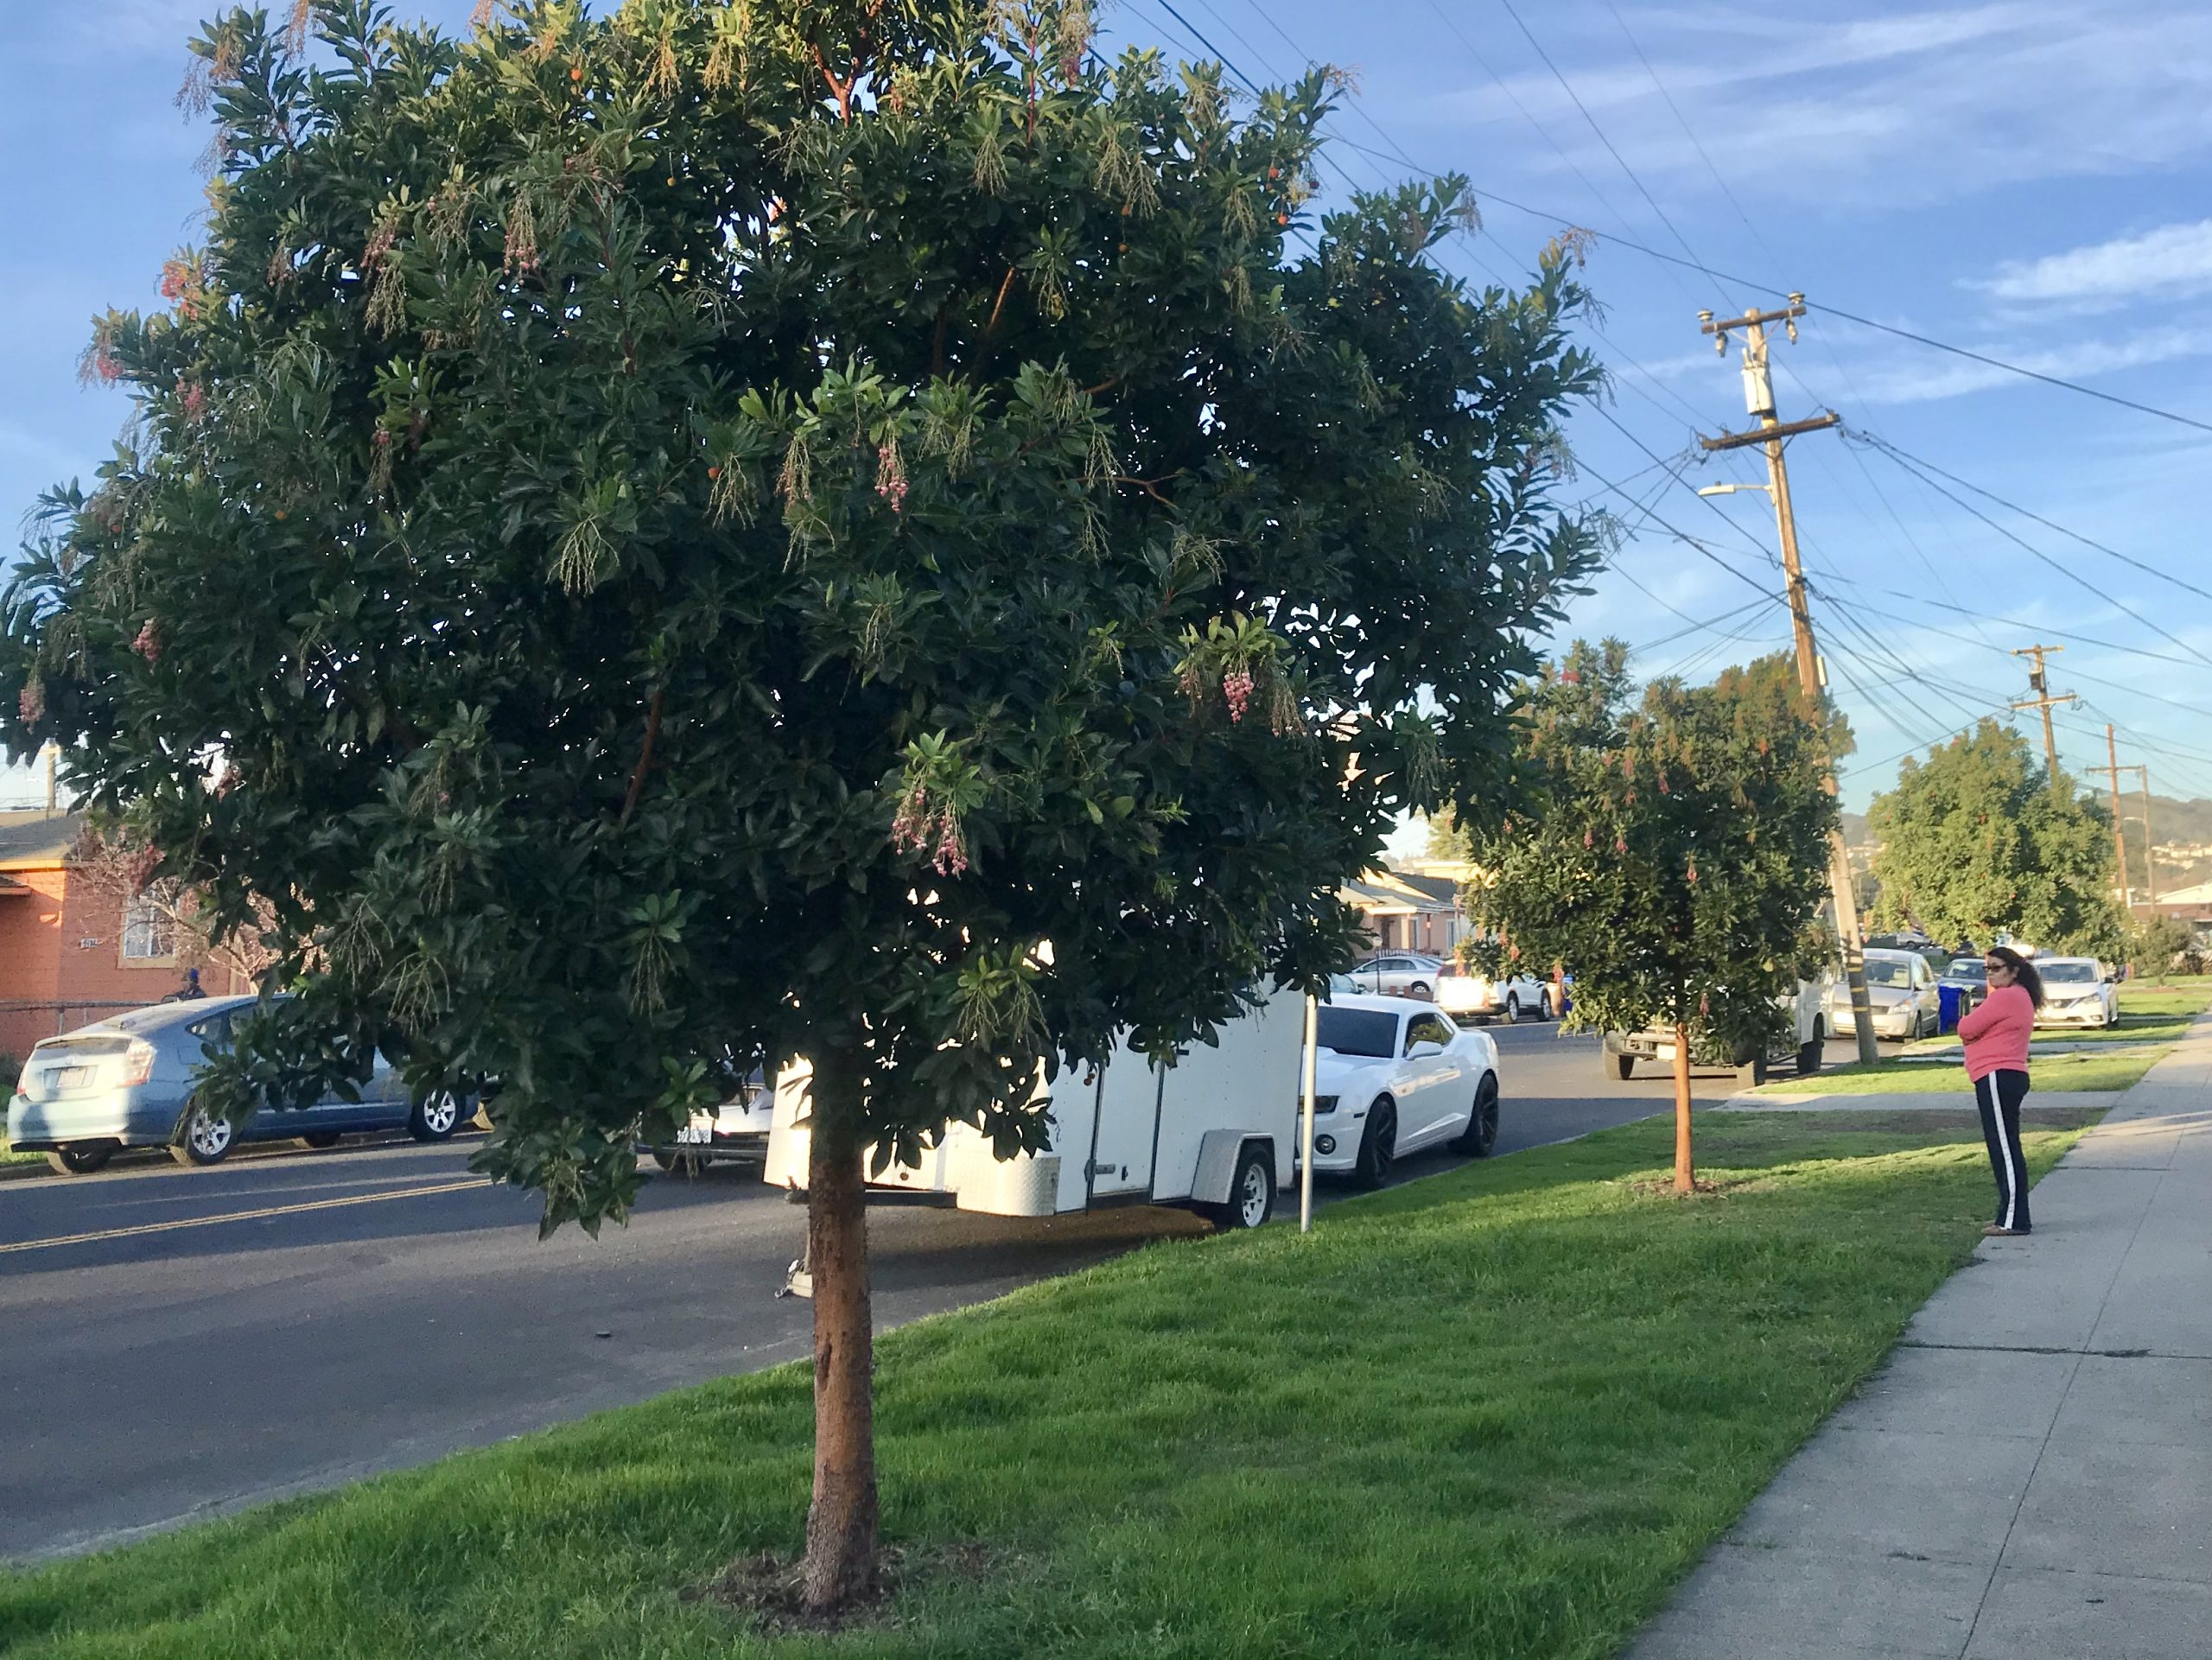tree: (0, 0, 1635, 1627), (1447, 635, 1863, 1194)
